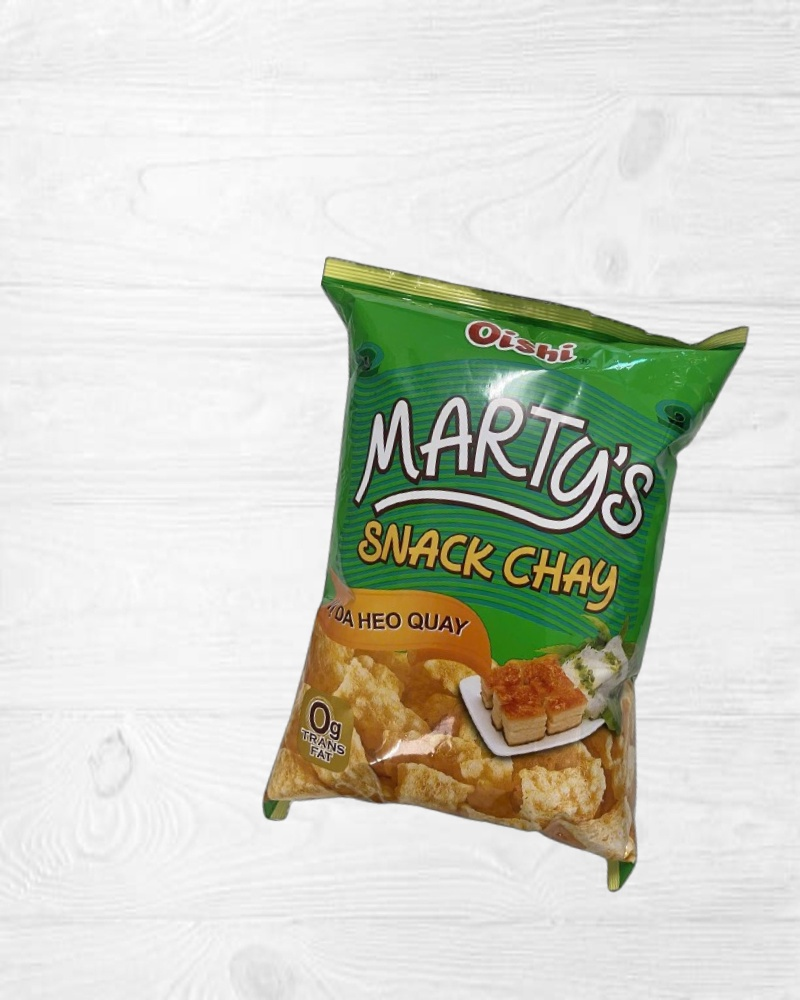Snack chay: (227, 253, 750, 899)
